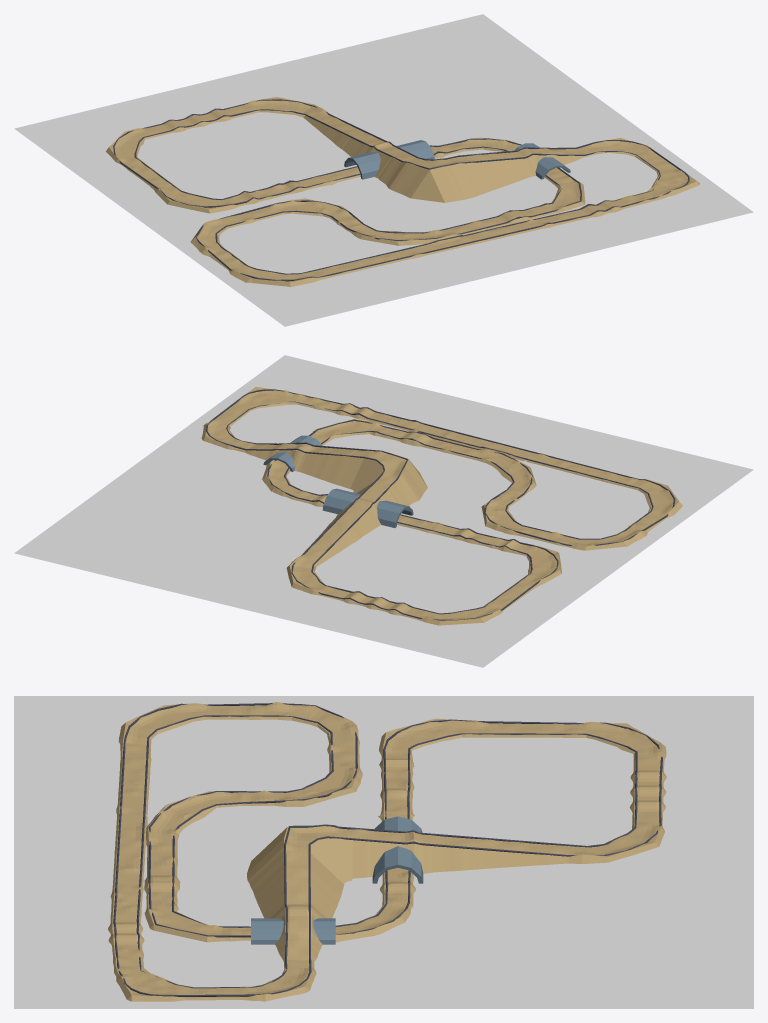
The model's file is course.gltf.
3 renders of one model, top to bottom at view 1: azimuth 30°, elevation 25°; view 2: azimuth 150°, elevation 25°; view 3: azimuth 270°, elevation 25°, orthographic. The views are drawn at different scales.
Parts seen in each view (by area): view 1: 平面.001, Course, 円.011, 円.001; view 2: 平面.001, Course, 円.011, 円.001; view 3: 平面.001, Course, 円.011, 円.001, 円.
Part boxes in pixels (x1,y1,x2,y2): 平面.001: [14, 14, 753, 326]; Course: [106, 97, 699, 286]; 円.011: [113, 99, 689, 281]; 円.001: [344, 140, 434, 179]; 平面.001: [14, 355, 753, 667]; Course: [201, 387, 682, 625]; 円.011: [206, 389, 675, 620]; 円.001: [322, 488, 413, 527]; 平面.001: [14, 696, 753, 1008]; Course: [108, 702, 666, 1001]; 円.011: [113, 703, 662, 996]; 円.001: [372, 816, 423, 883]; 円: [251, 918, 335, 944].
Size of the model in its own units: 55 by 4.29 by 55.
